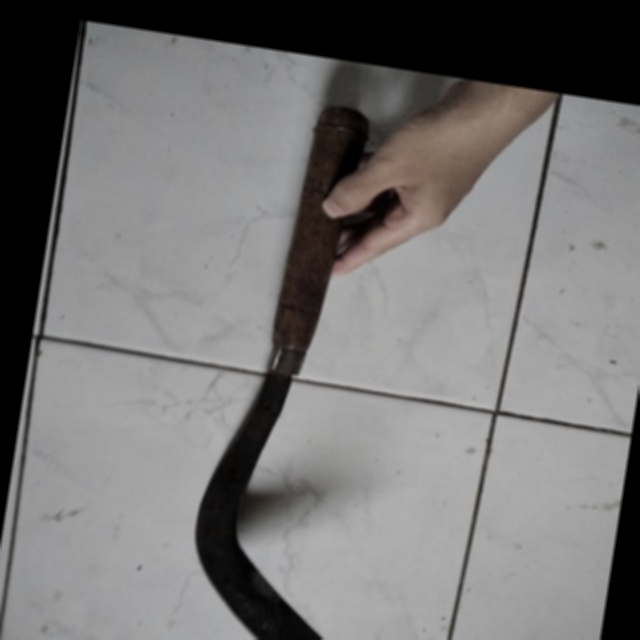Sharp-Object: (151, 52, 526, 640)
